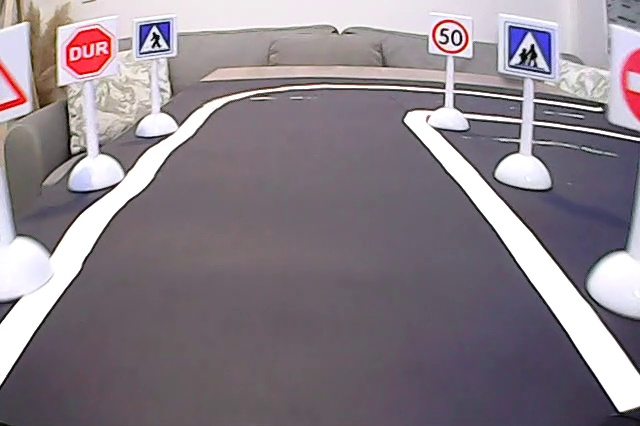pedestrian crossing: (135, 20, 174, 53)
school crossing: (498, 18, 554, 77)
speed limit 50: (431, 18, 469, 54)
stop sign: (58, 26, 121, 80)
